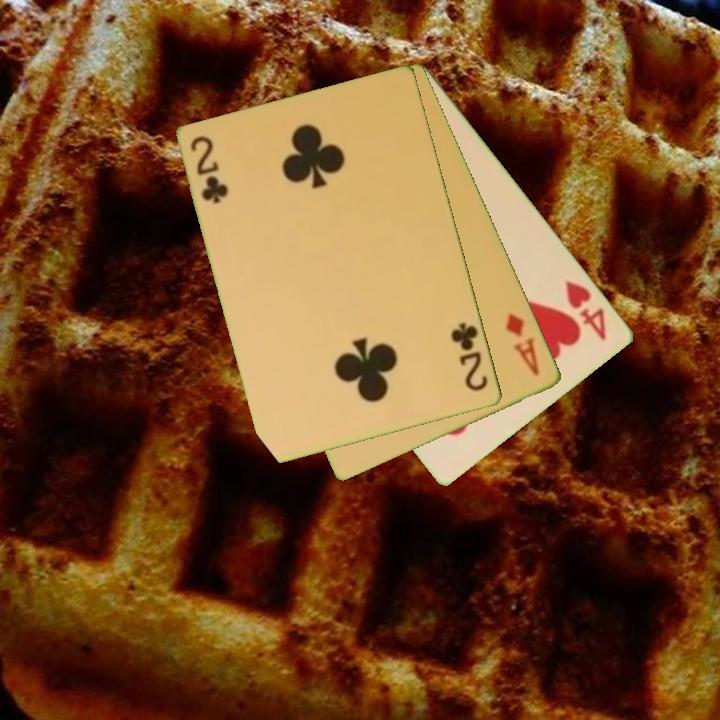2c: (187, 132, 231, 207), (448, 319, 491, 395)
4h: (562, 276, 610, 344)
Ad: (502, 309, 543, 379)
